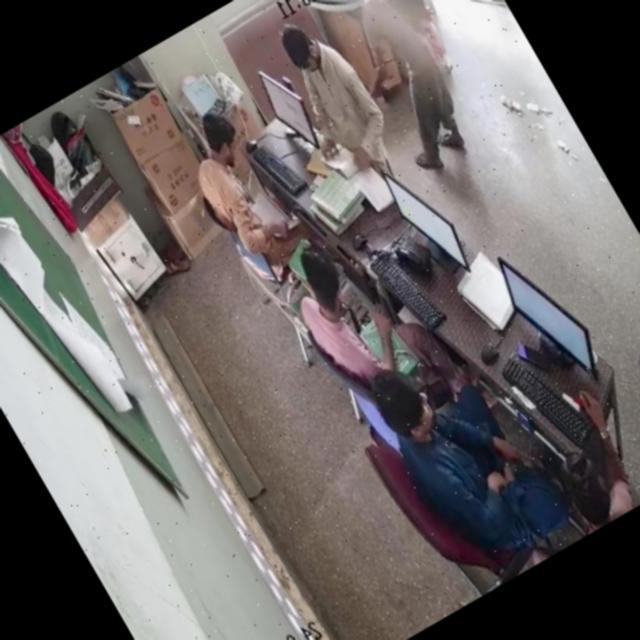person: (352, 329, 566, 576), (274, 210, 450, 424), (343, 0, 479, 164), (174, 100, 301, 268), (271, 6, 394, 170), (529, 423, 640, 542), (605, 344, 640, 488)
